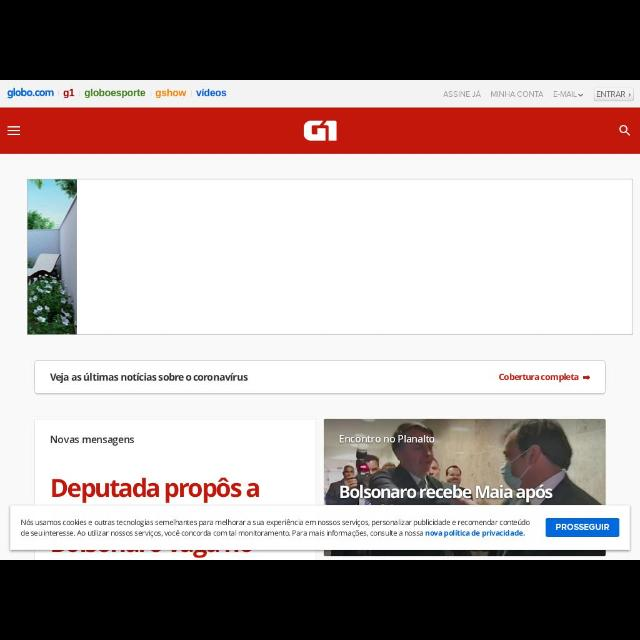backgroundimage: (324, 419, 606, 555)
icon: (6, 122, 22, 138), (616, 124, 634, 138), (578, 92, 586, 98), (584, 374, 590, 382), (628, 91, 632, 99)
image: (28, 178, 76, 334), (300, 117, 342, 143)
link: (498, 370, 580, 382), (425, 529, 525, 537)
spinner: (548, 86, 590, 102)
text: (19, 518, 533, 540), (50, 476, 262, 504), (338, 484, 554, 504), (49, 371, 249, 385), (50, 432, 136, 448), (338, 434, 436, 444), (6, 86, 56, 100), (84, 88, 144, 99), (554, 522, 610, 530), (490, 90, 544, 98), (442, 90, 482, 100), (596, 88, 626, 100), (155, 90, 187, 98), (195, 89, 227, 97), (552, 90, 576, 98), (63, 88, 75, 100)
textbutton: (36, 359, 606, 393), (546, 519, 620, 537), (594, 86, 634, 102)
toolbar: (1, 108, 639, 154), (1, 81, 639, 107)
